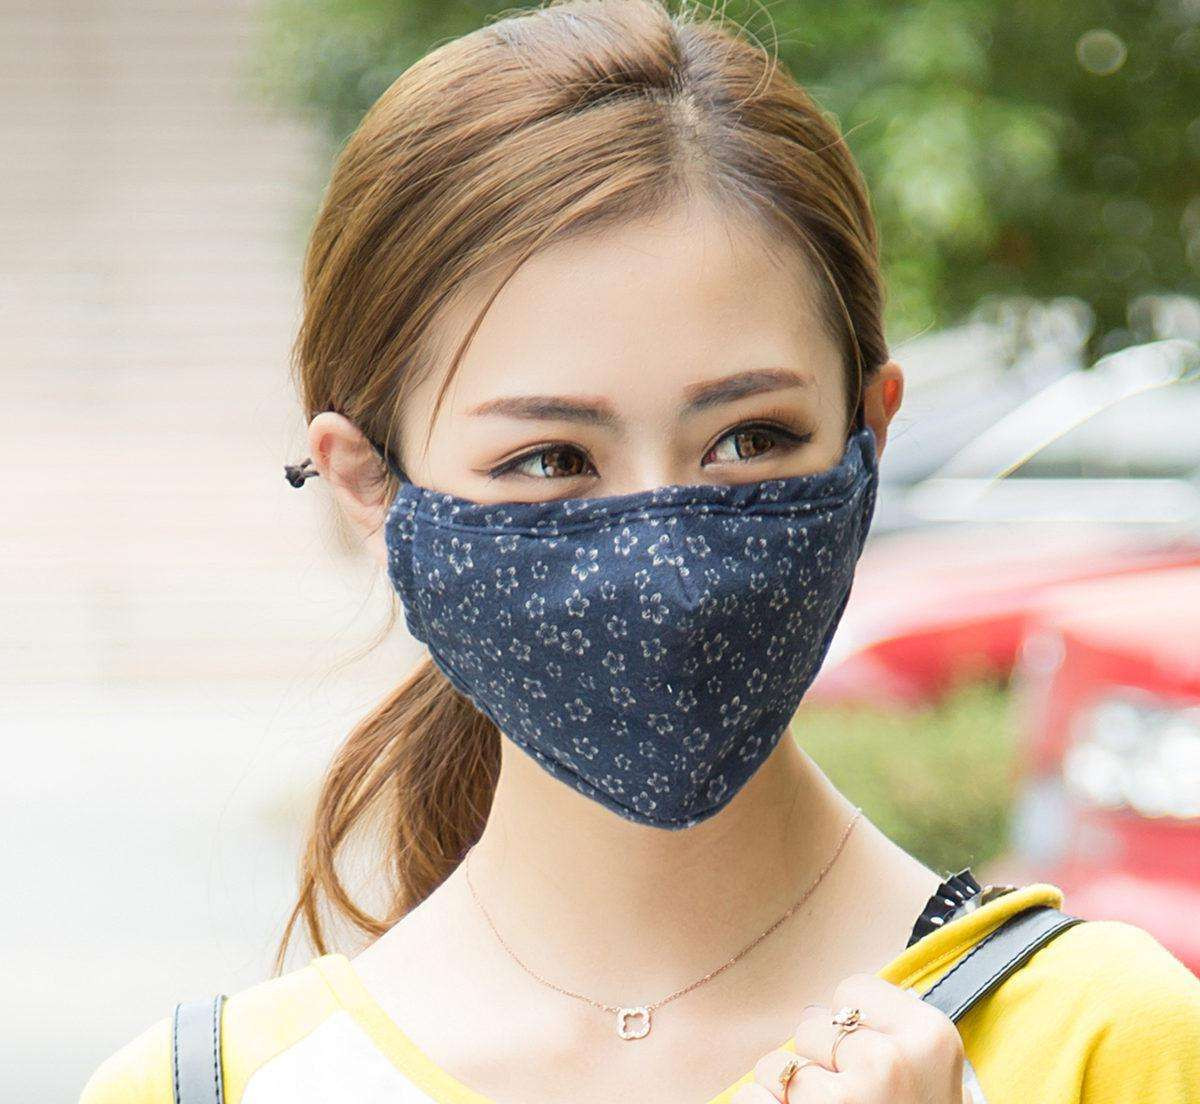mask: (353, 396, 885, 834)
